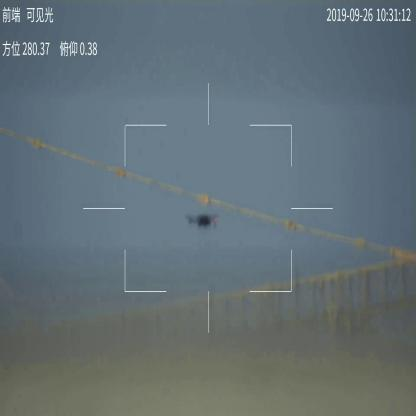uav: (180, 213, 223, 229)
